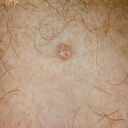Carcinoma: (56, 43, 73, 61)
